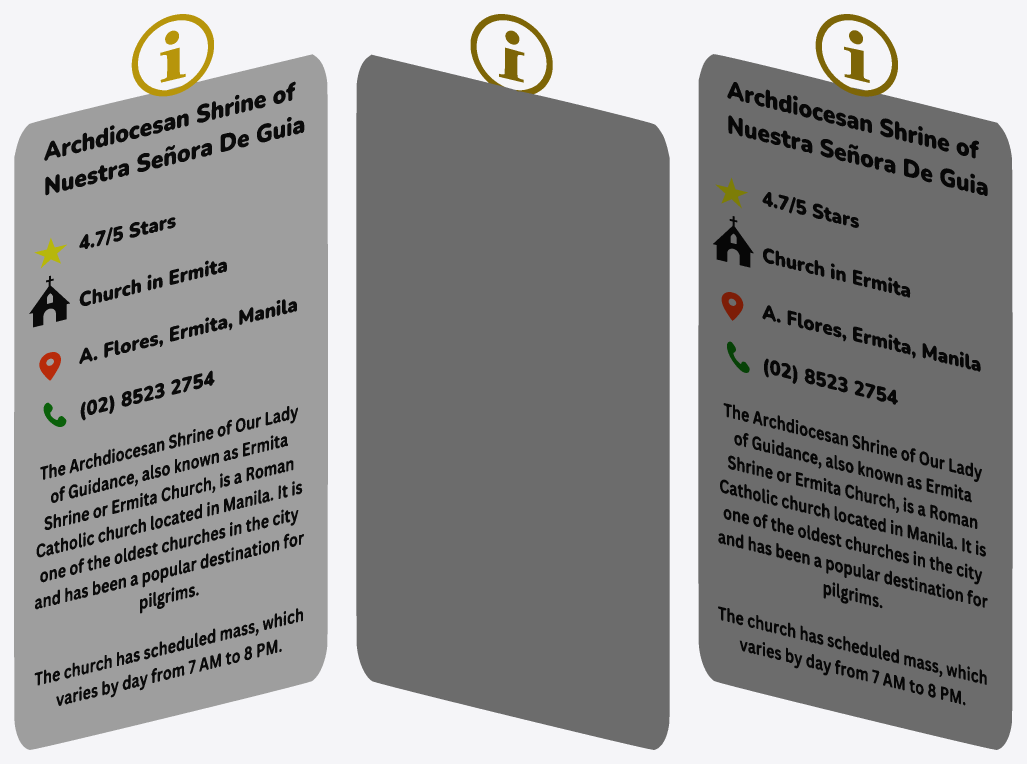
File: CHURCH-1-CONTAINER.fbx
3 renders of one model, left to right at view 1: azimuth 30°, elevation 25°; view 2: azimuth 150°, elevation 25°; view 3: azimuth 330°, elevation 25°, orthographic.
Visible parts, largest first — view 1: Curve.001; view 2: Curve.001; view 3: Curve.001.
Boxes of the visible parts, x1,y1,x2,y2 form: Curve.001: (14,14,327,749); Curve.001: (356,14,669,749); Curve.001: (698,14,1012,749).
Size of the model in its own units: 21.09 by 45.04 by 0.2098.
